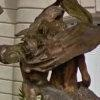Statue: (10, 4, 94, 92)
